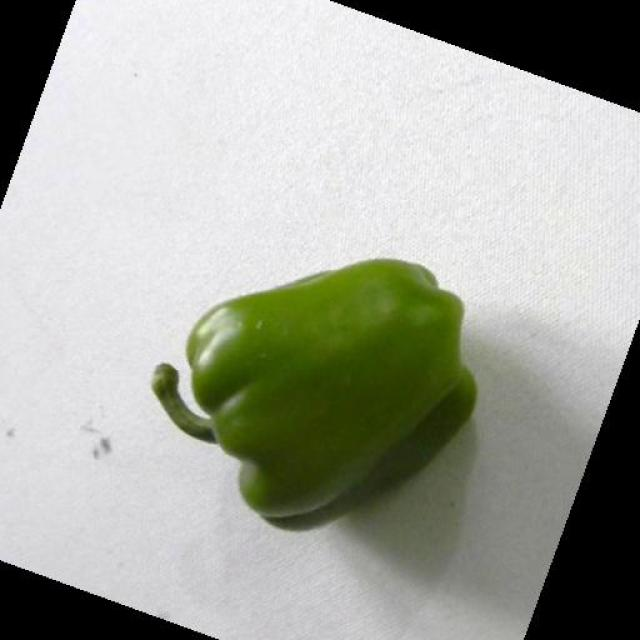Fresh_Capsicum: (161, 295, 494, 488)
